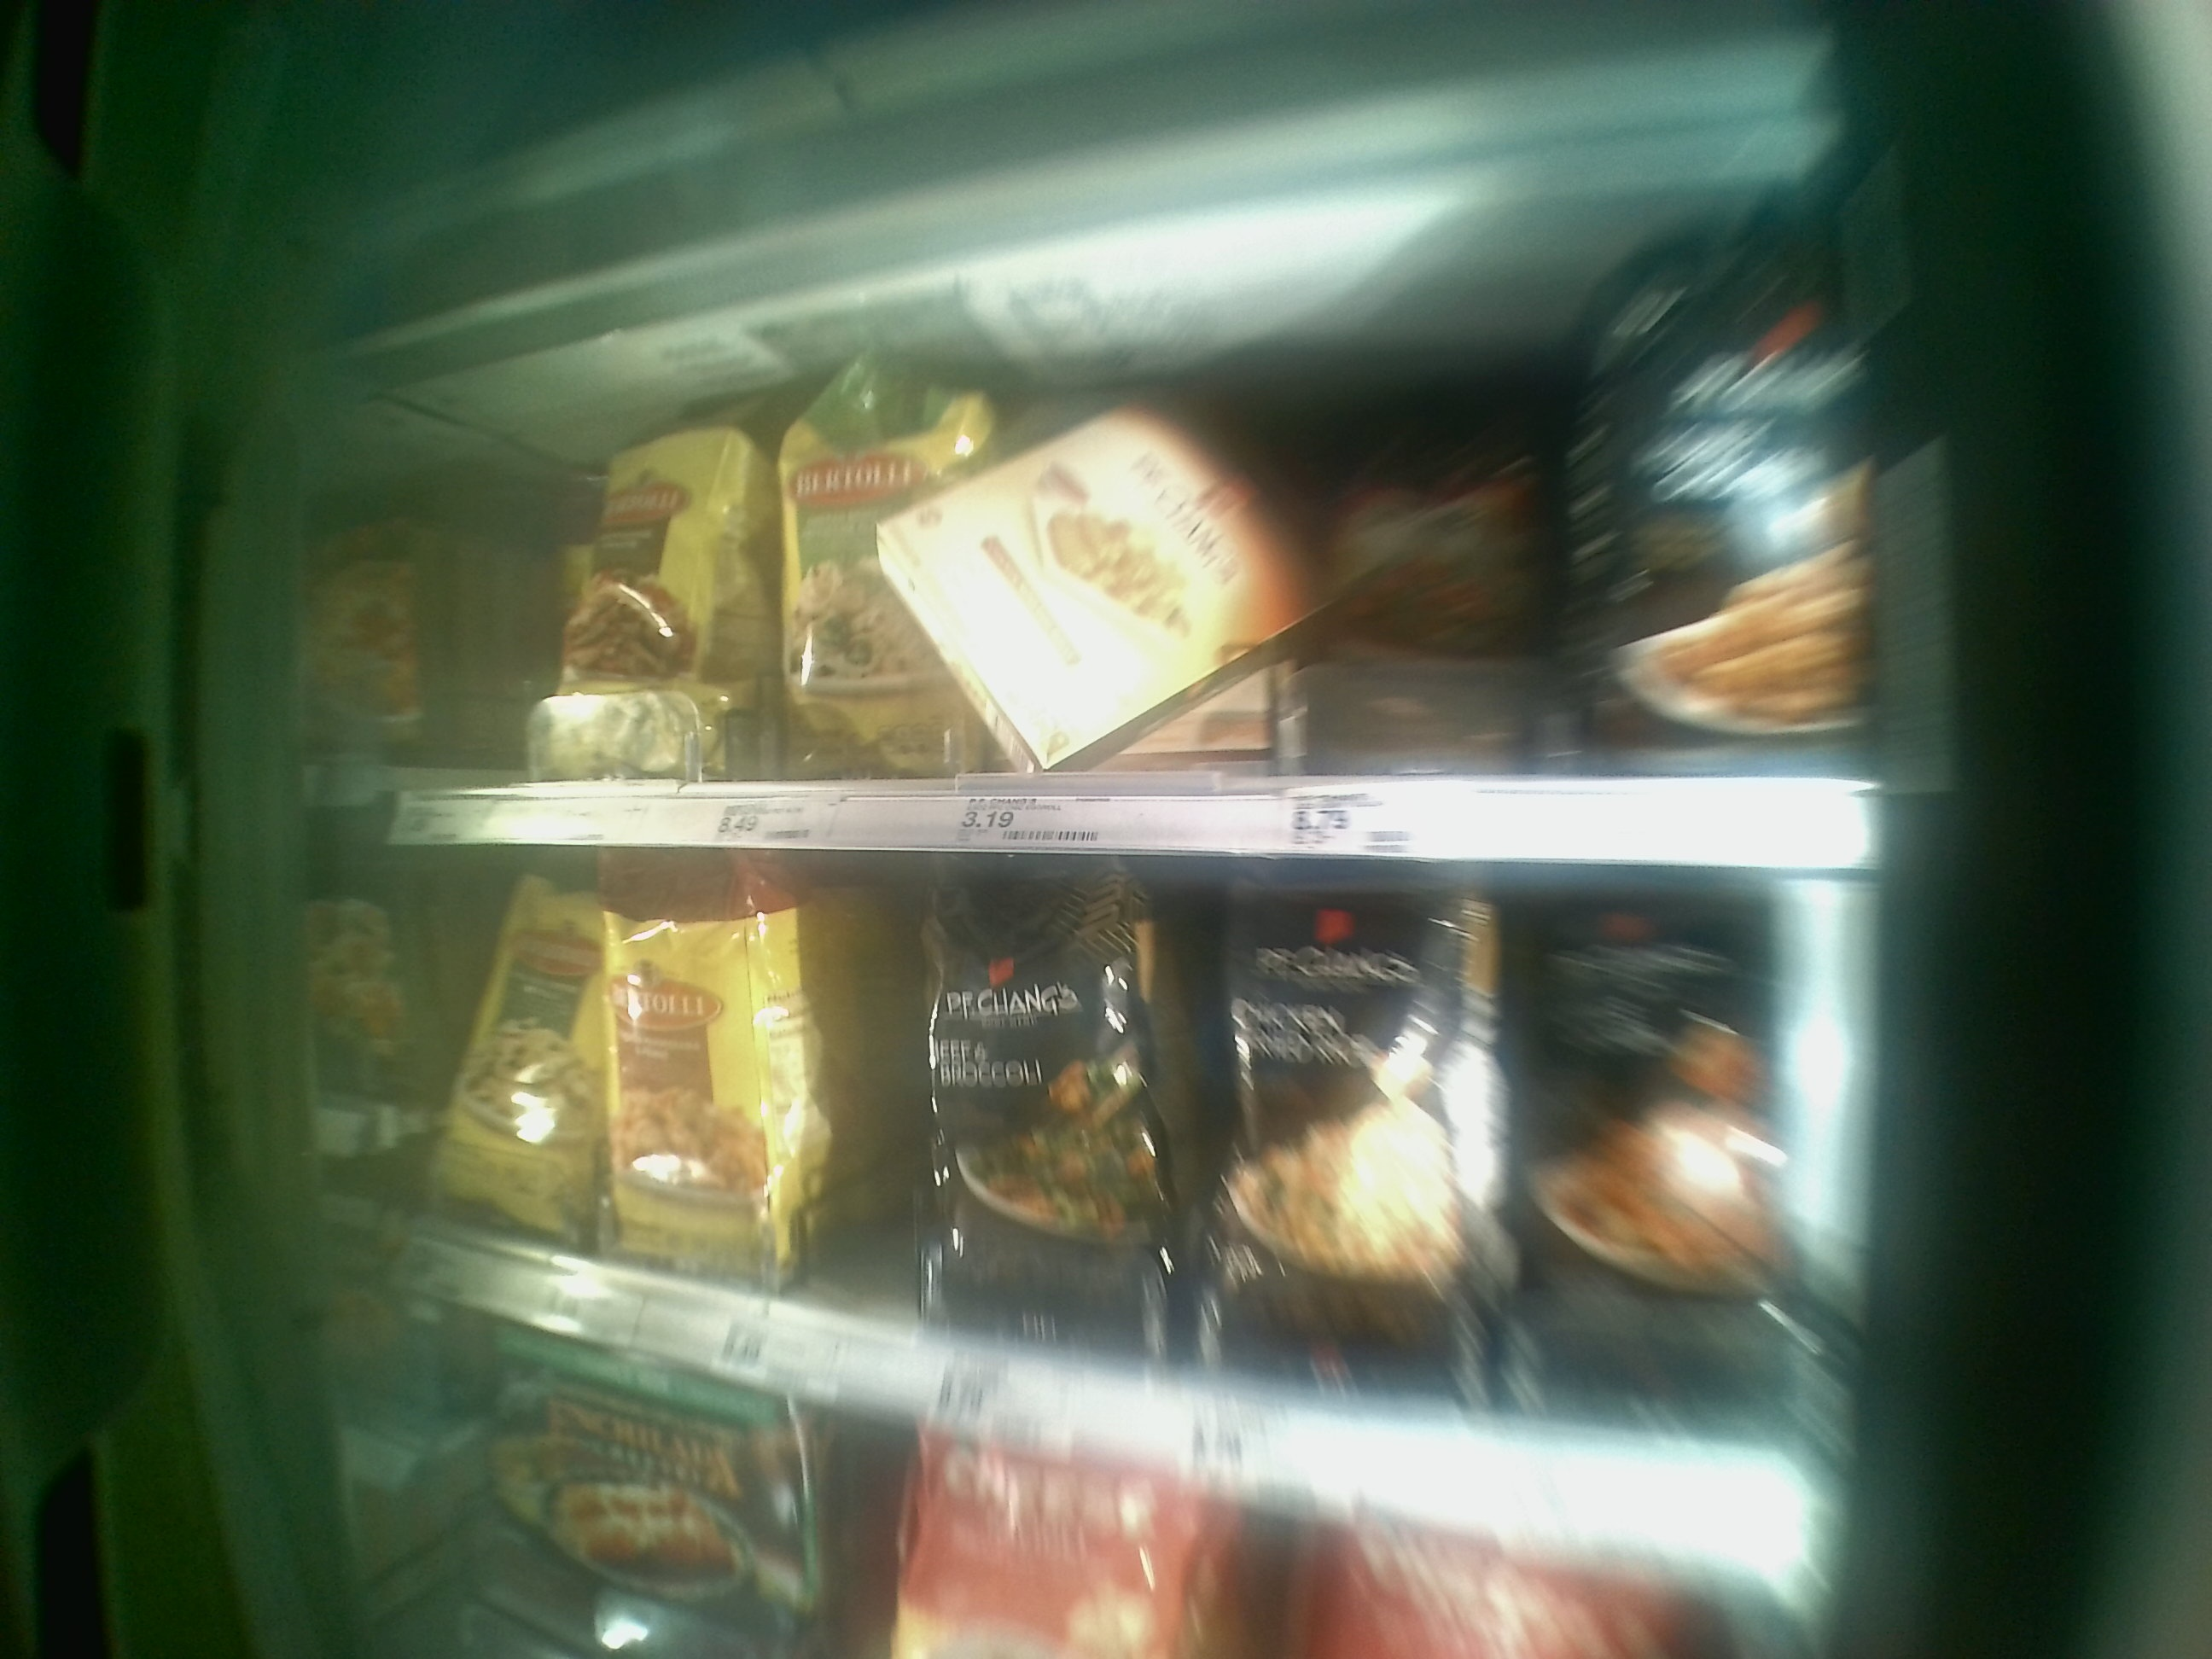shelf: (343, 350, 1902, 877)
